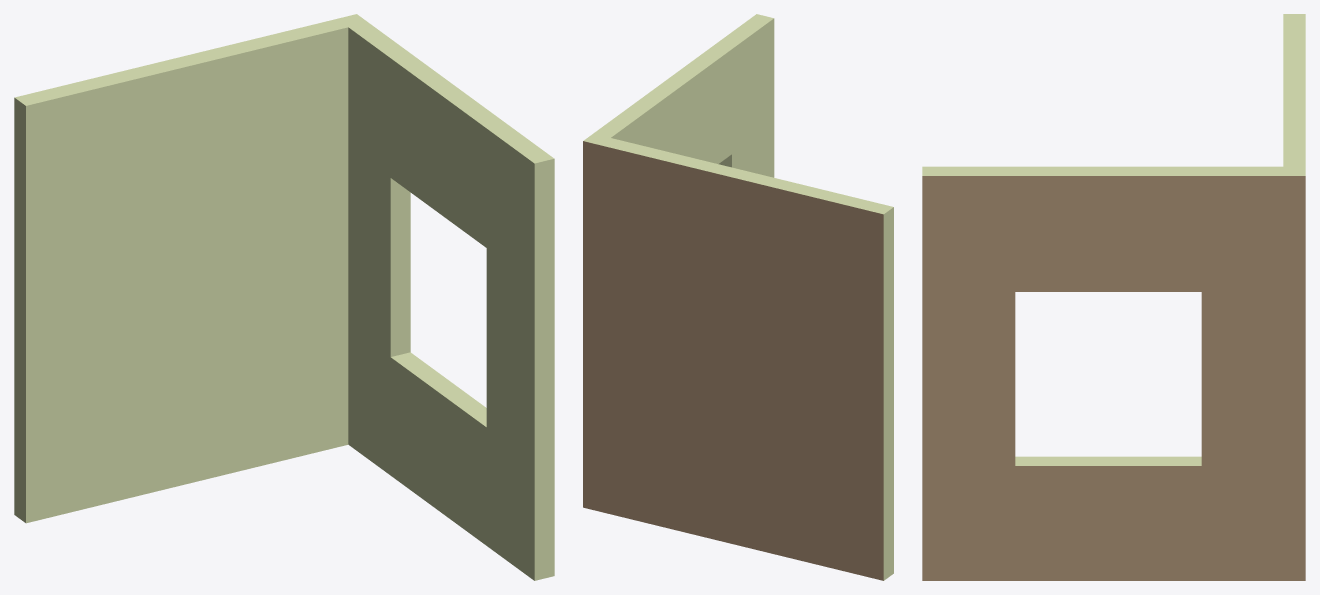
File: Wall2_C5_11.fbx
The picture shows the model from 3 angles, left to right: view 1: azimuth 30°, elevation 25°; view 2: azimuth 150°, elevation 25°; view 3: azimuth 270°, elevation 25°; orthographic projection. The views are drawn at different scales.
Parts seen in each view (by area): view 1: Wall2_C5_11; view 2: Wall2_C5_11; view 3: Wall2_C5_11.
Part boxes in pixels (x1=…): Wall2_C5_11: x1=14, y1=14, x2=554, y2=580; Wall2_C5_11: x1=583, y1=14, x2=893, y2=580; Wall2_C5_11: x1=922, y1=14, x2=1305, y2=580.
Size of the model in its own units: 258 by 300 by 258.
